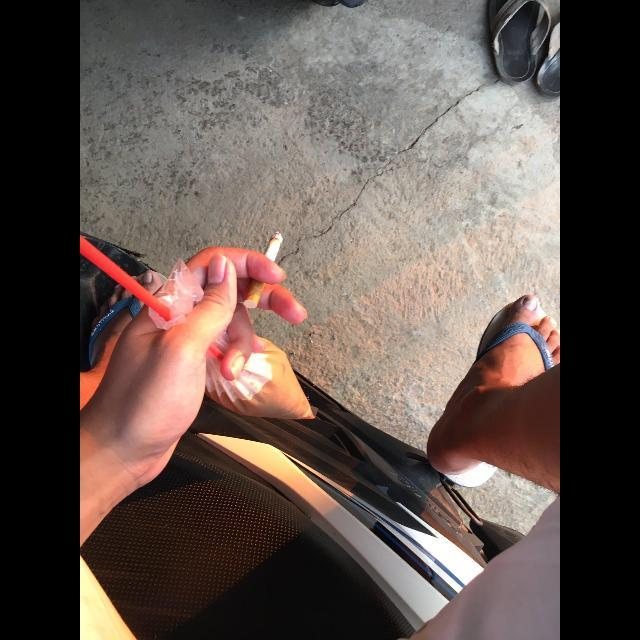rokok: (240, 228, 284, 314)
